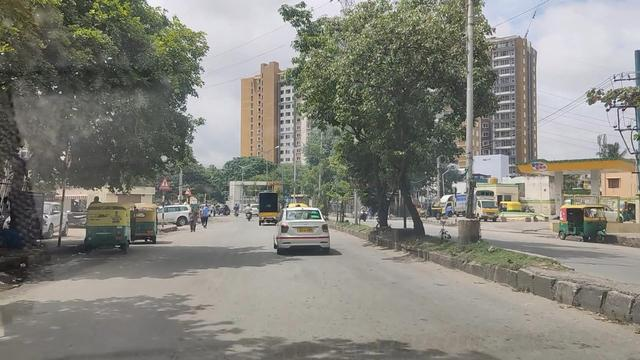LMV: (78, 200, 134, 254)
